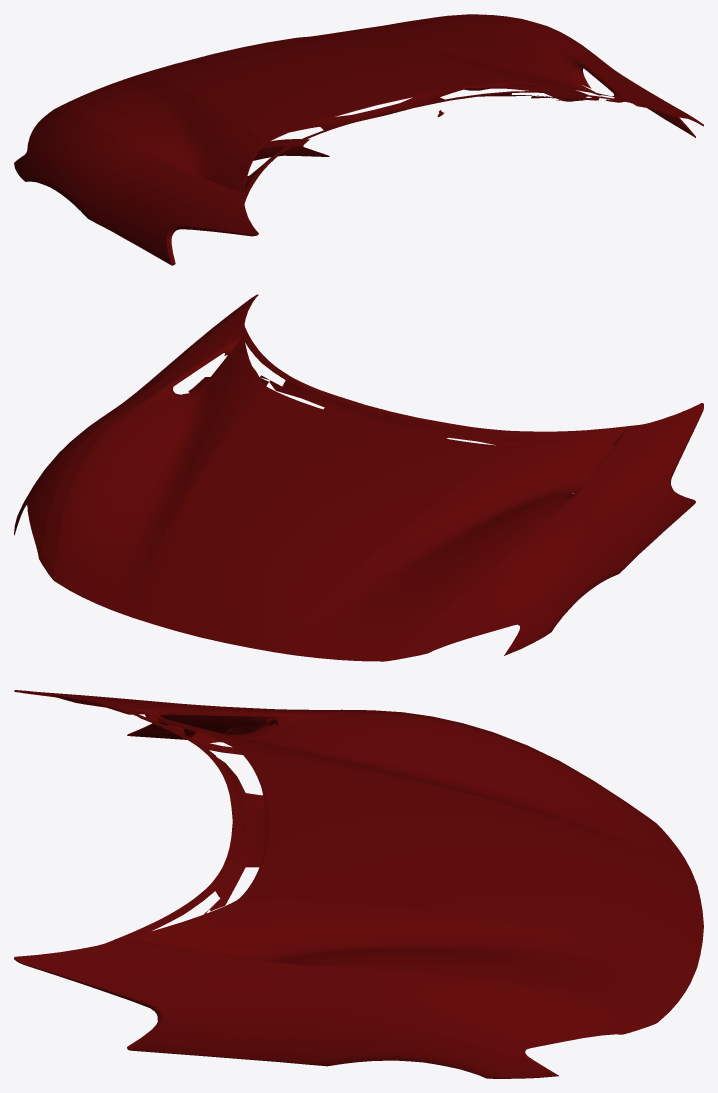
Rendered from cofre.obj.
3 renders of one model, top to bottom at view 1: azimuth 30°, elevation 25°; view 2: azimuth 150°, elevation 25°; view 3: azimuth 270°, elevation 25°, orthographic. The views are drawn at different scales.
Visible parts, largest first — view 1: Paint_Geo_lodA.001; view 2: Paint_Geo_lodA.001; view 3: Paint_Geo_lodA.001.
Part boxes in pixels (x1,y1,x2,y2): Paint_Geo_lodA.001: (14, 14, 703, 265); Paint_Geo_lodA.001: (14, 294, 703, 661); Paint_Geo_lodA.001: (14, 690, 703, 1078).
Bounding box in the file's own units: 0.8024 × 0.1312 × 0.7324.
